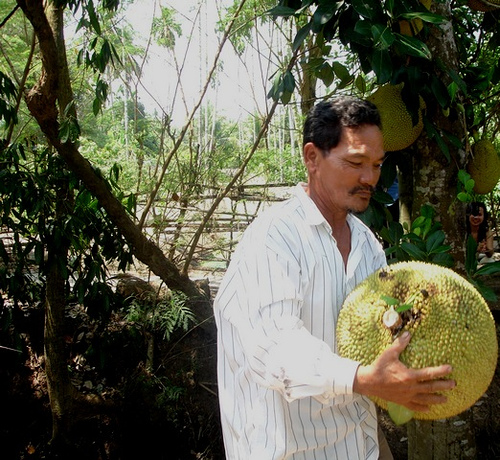jackfruit: (332, 251, 498, 430), (368, 78, 428, 155)
